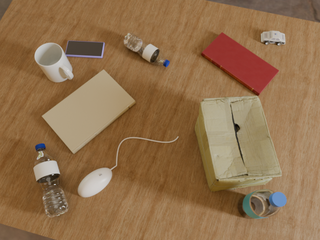book: (42, 70, 136, 154), (201, 32, 279, 96)
bottle: (33, 144, 69, 218), (123, 33, 170, 67), (238, 189, 286, 219)
box: (195, 96, 281, 192)
cup: (35, 43, 73, 82)
mouse: (78, 168, 112, 197)
phone: (65, 41, 104, 58)
toy_car: (261, 31, 285, 45)
